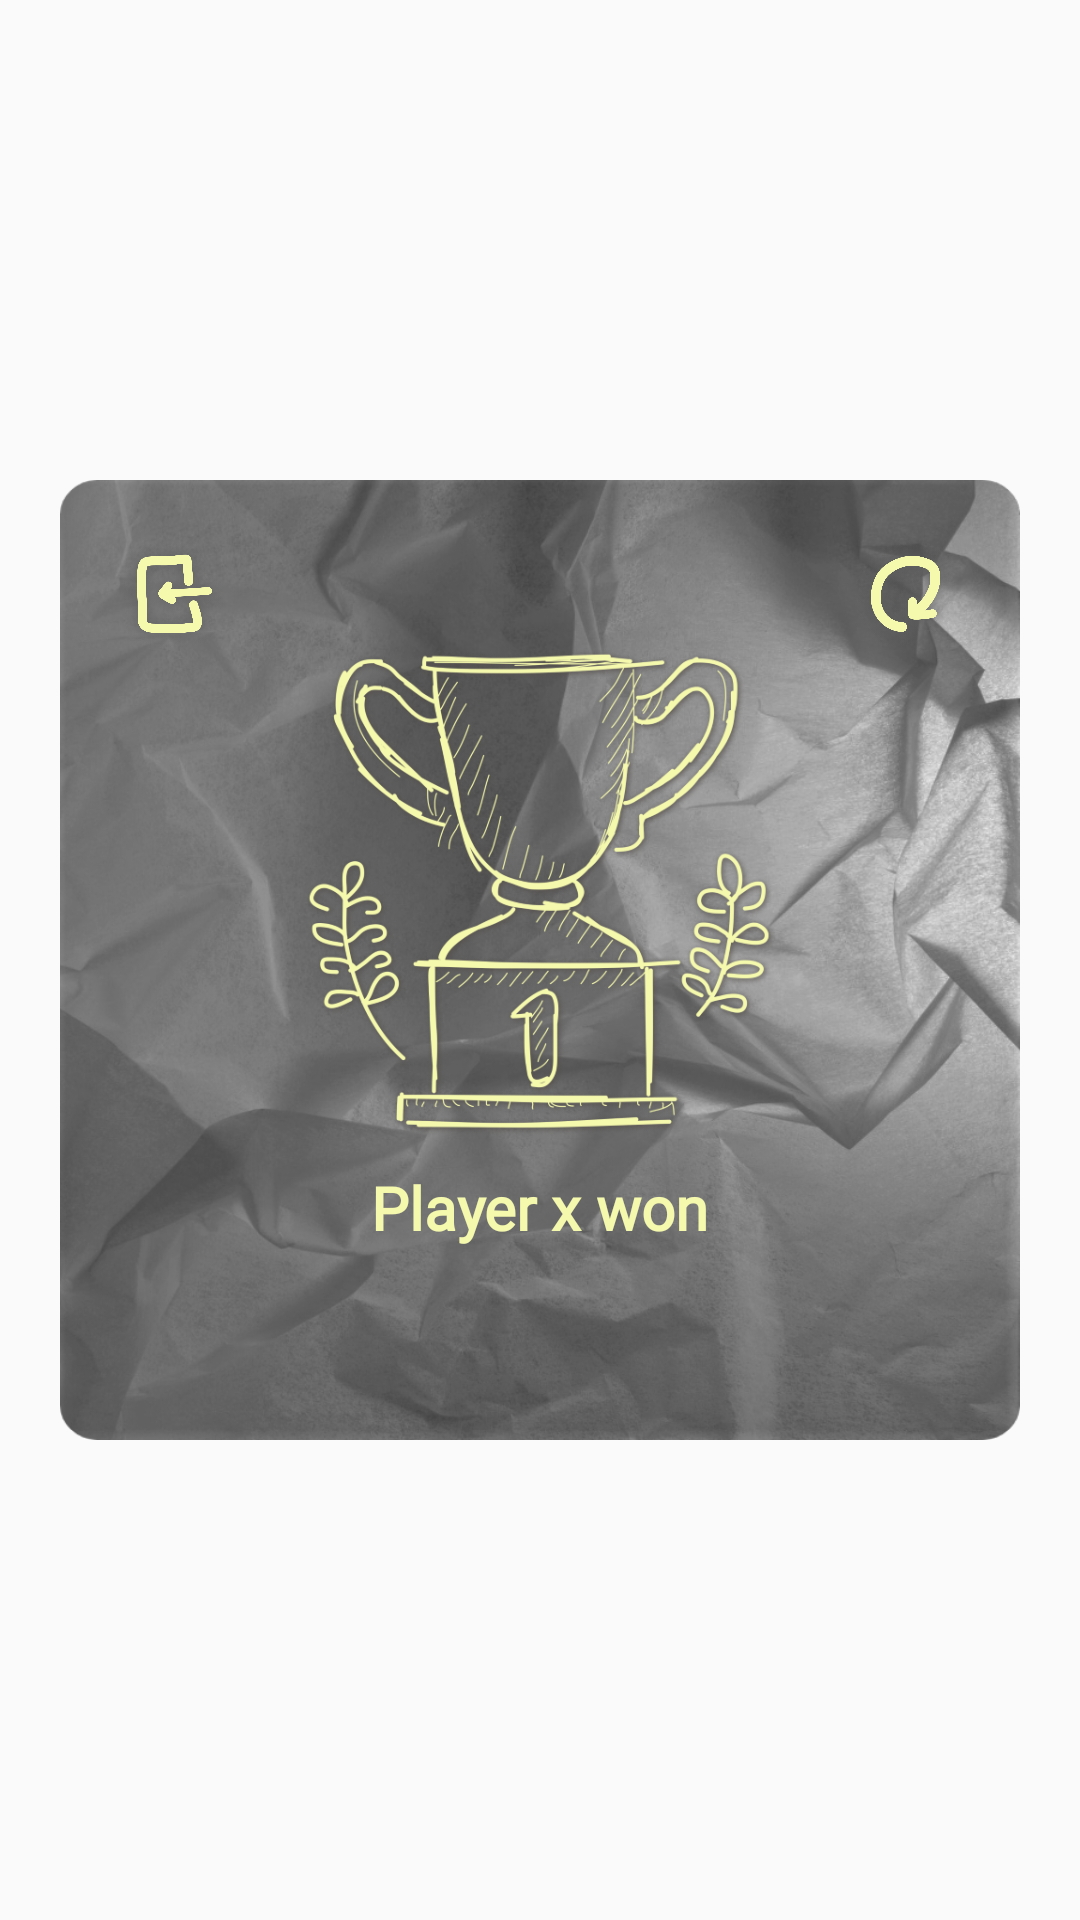

Screen size 1080×1920. Icon name, then its center in pixels as [x,y]:
figexitdark: [174,594]
figrestartdark: [915,592]
